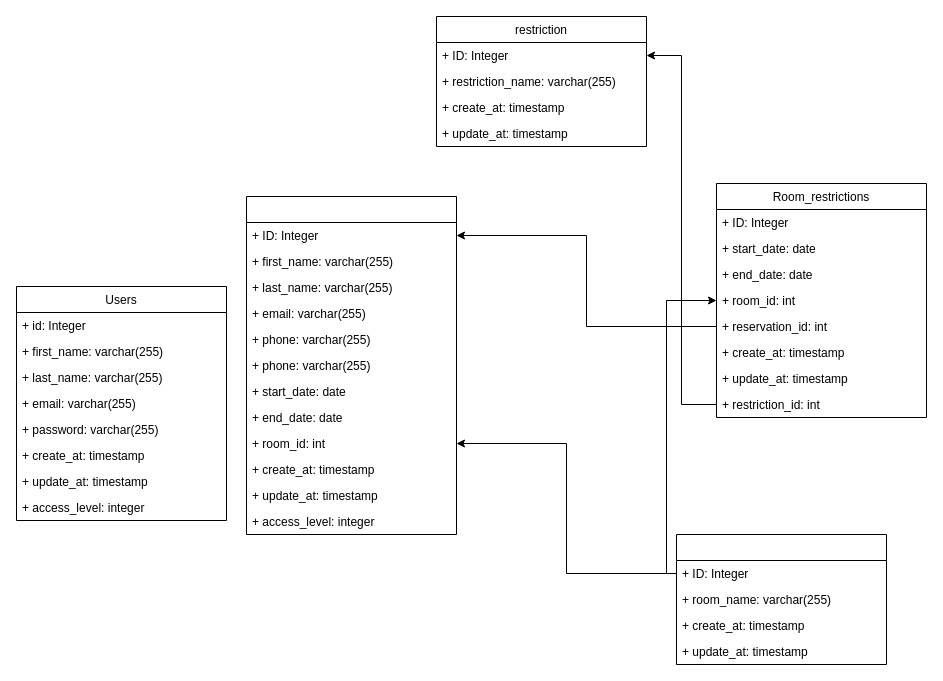
This 943x681 diagram has some shape labels left out. The box of each missing label's shape, as (x1, y1, x2, y2) in pixels:
Reservation: (246, 196, 456, 534)
Rooms: (676, 534, 886, 664)
